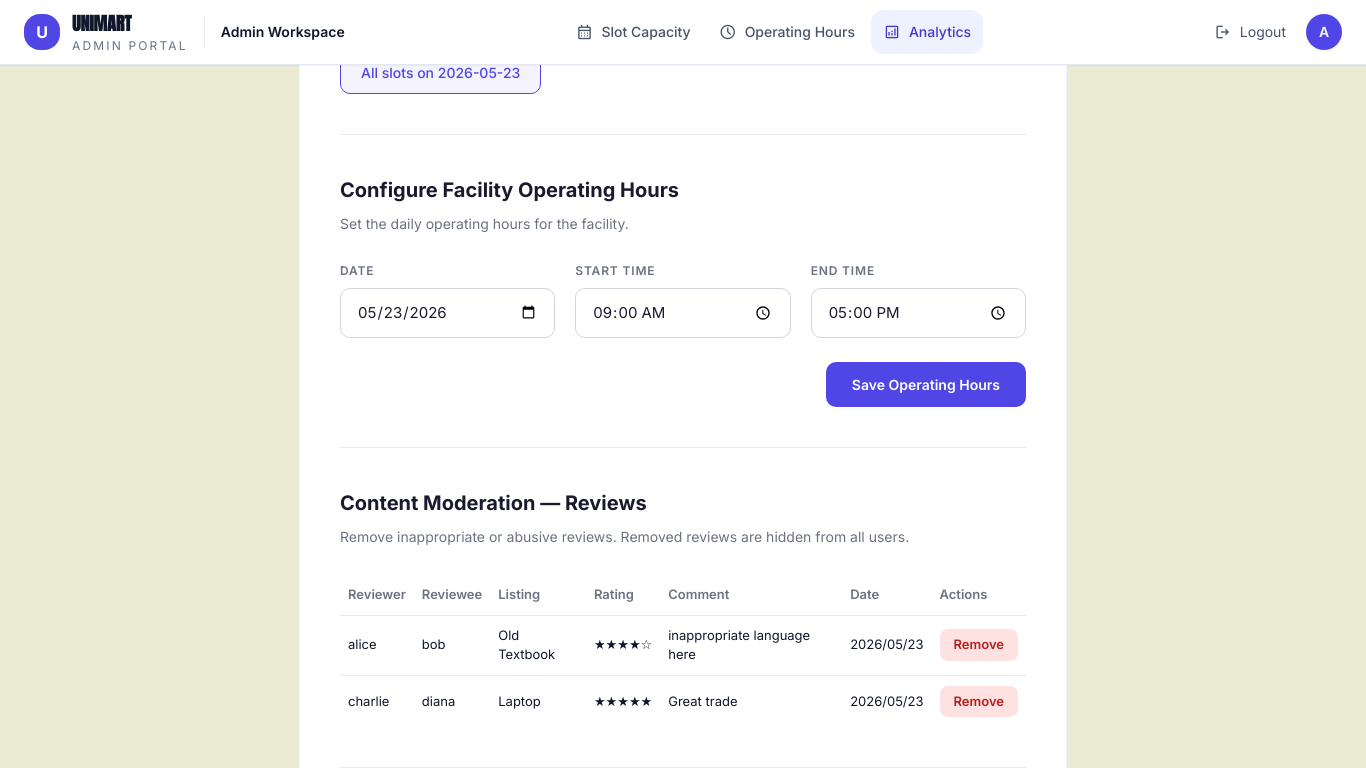
it: AdminDashboard coverage – operating hours › saves operating hours successfully
The width and height of the screenshot is (1366, 768).
(page scrolled)
Click the button "Save Operating Hours" at [926, 384], box [826,362,1026,407]
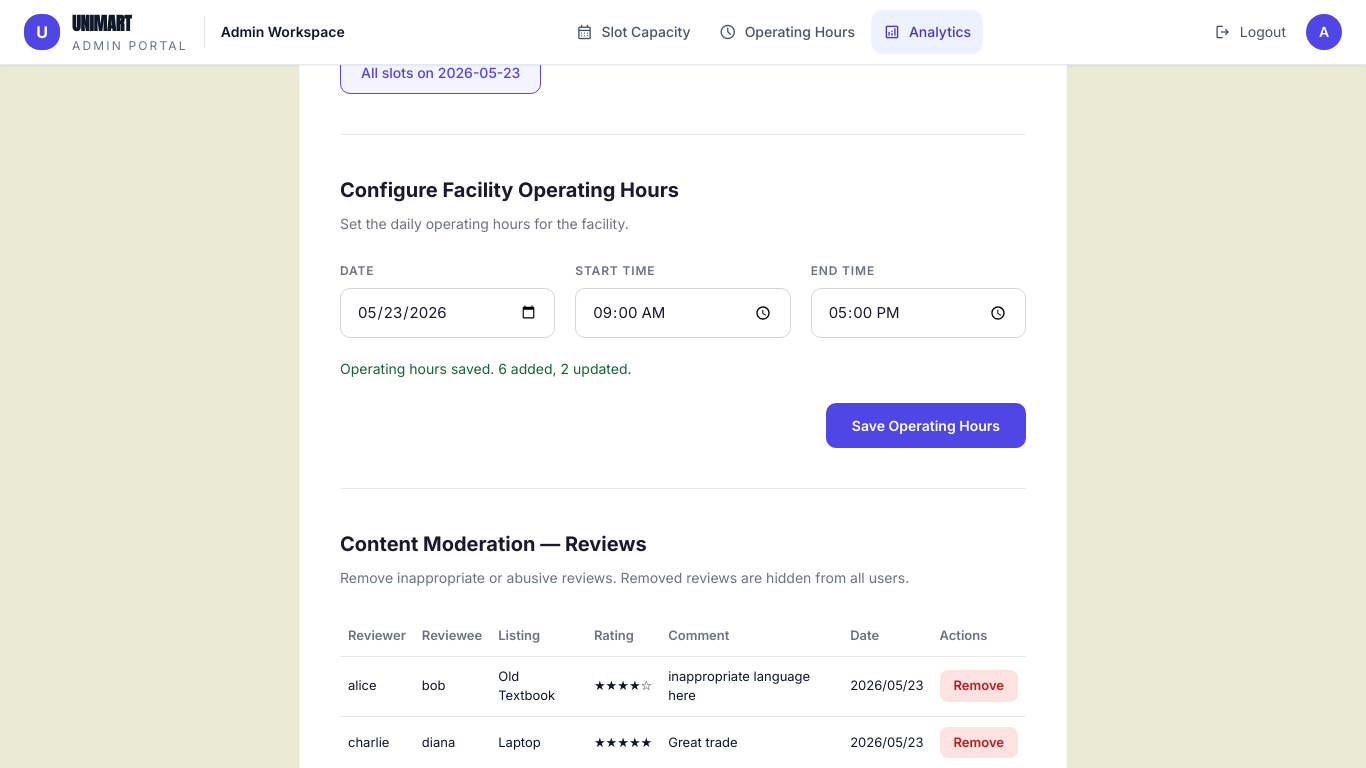
Result: the text "Operating hours saved. 6 added, 2 updated." is shown at [340,360,632,377]
